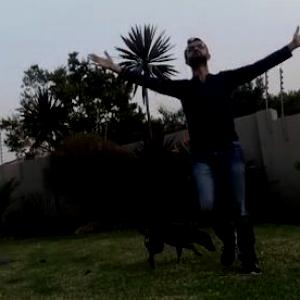takeoff: (101, 32, 299, 266)
